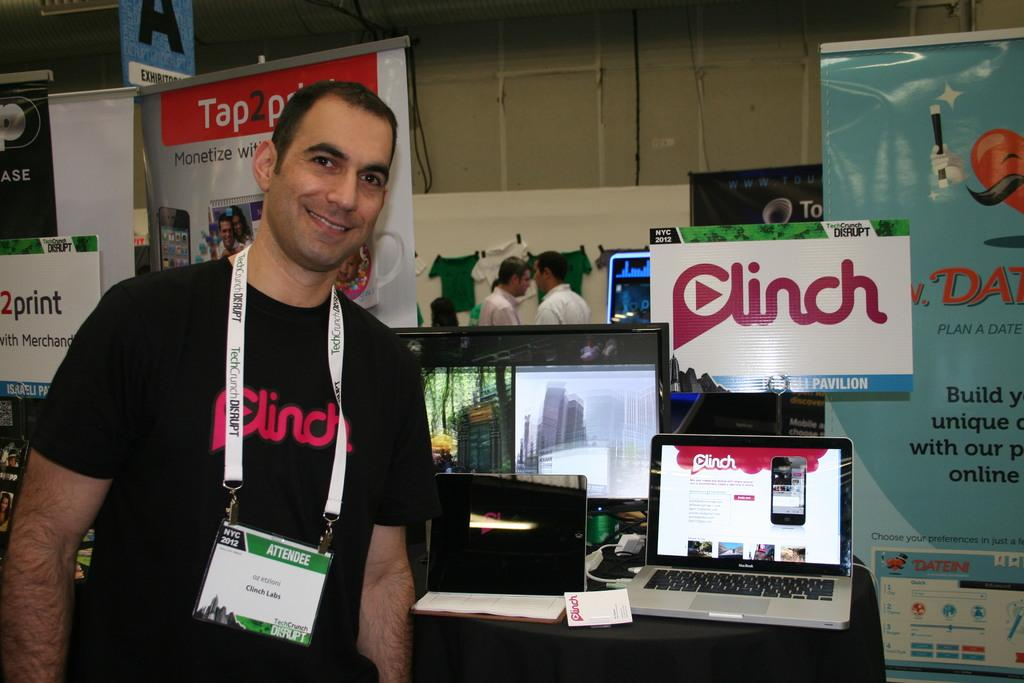Laptop: (620, 429, 867, 654), (411, 473, 587, 621)
